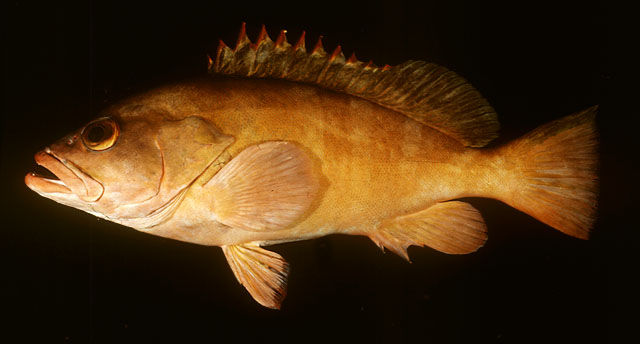fish: (23, 21, 600, 311)
